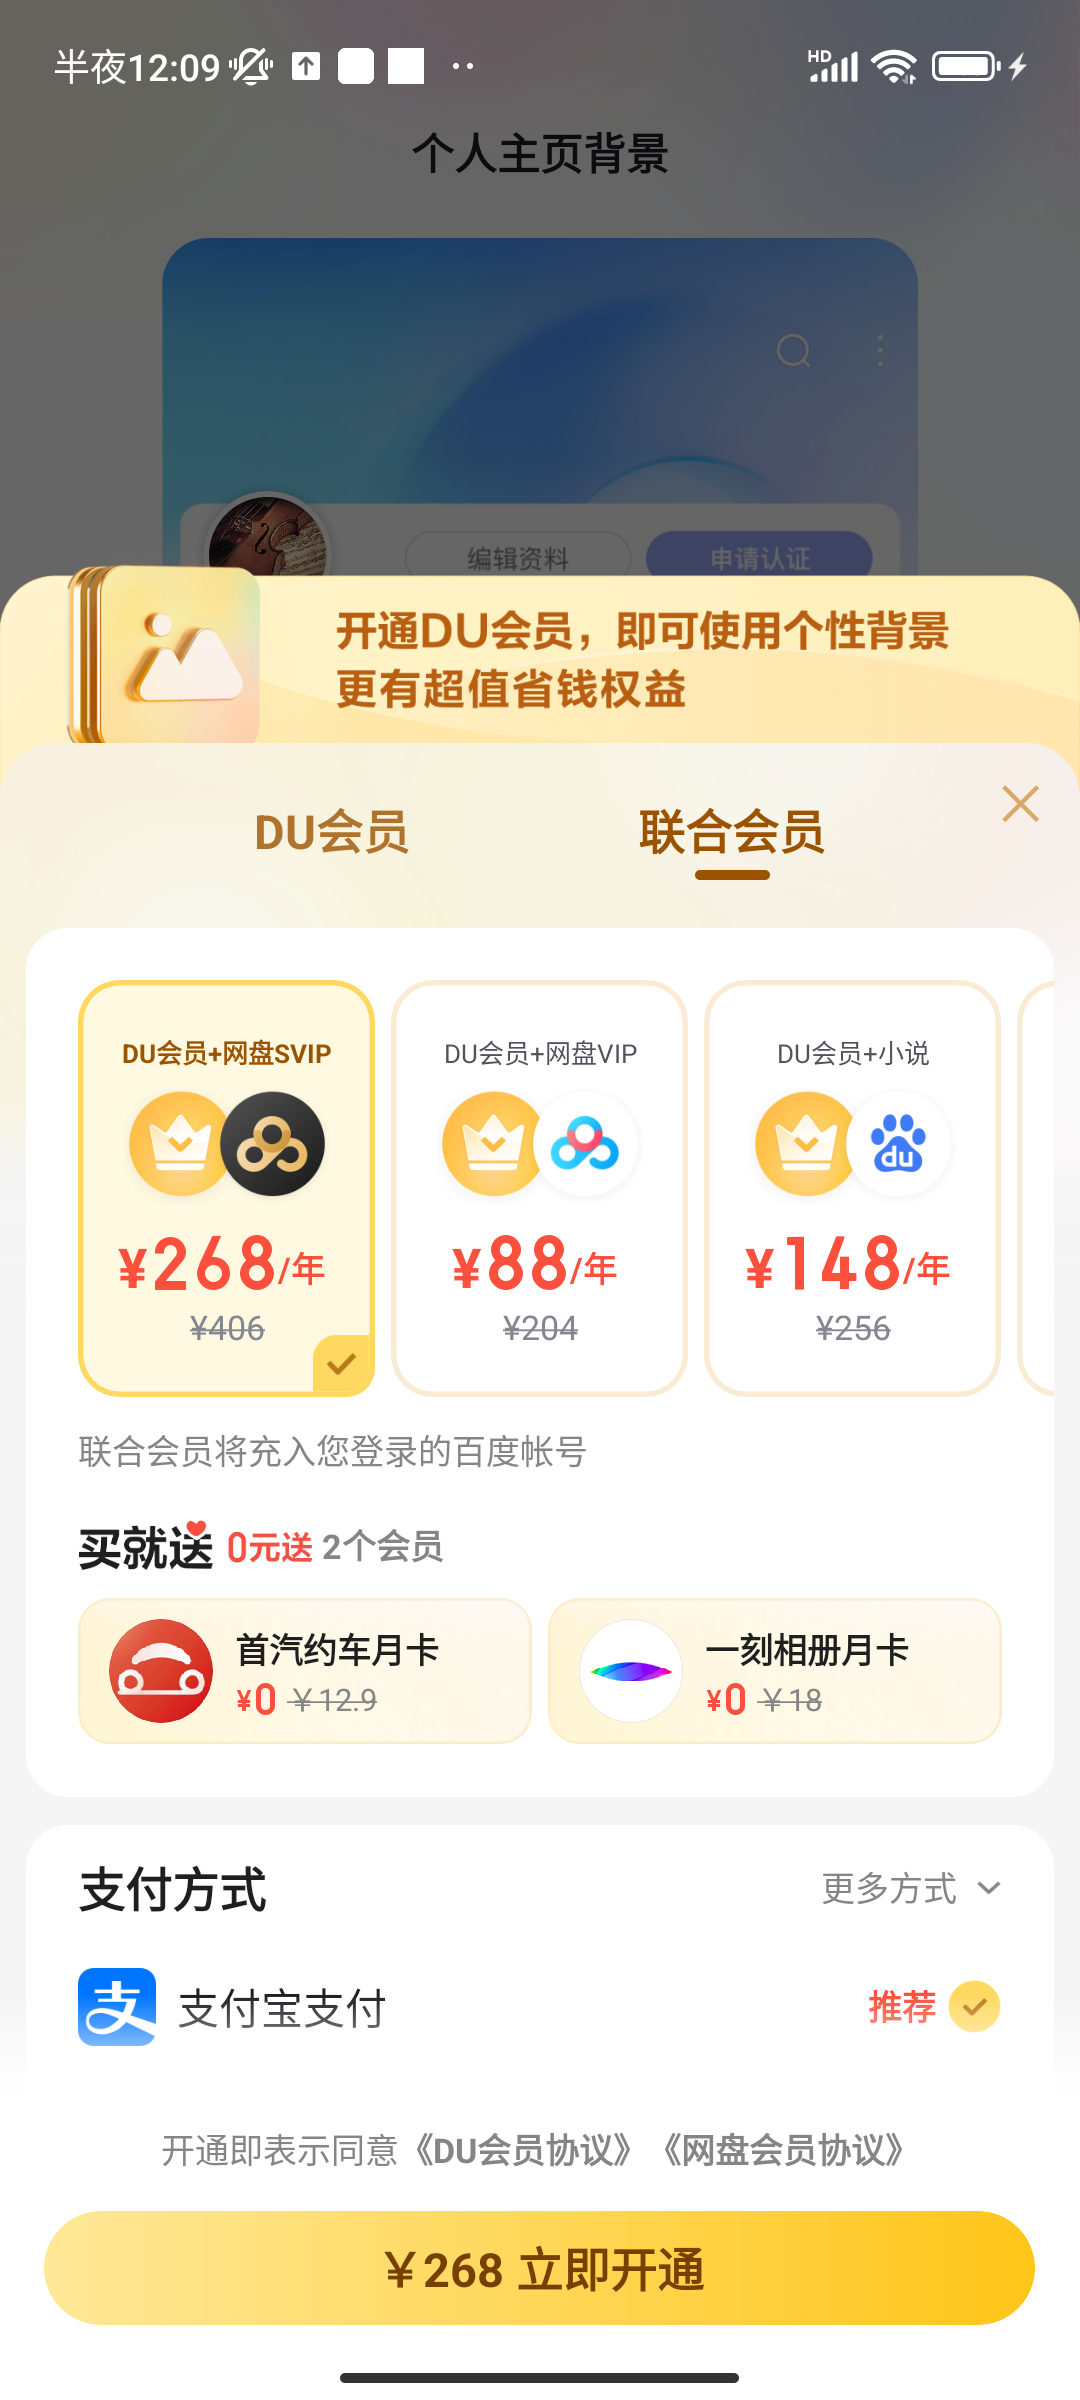ui_group: (2, 566, 1080, 2351)
